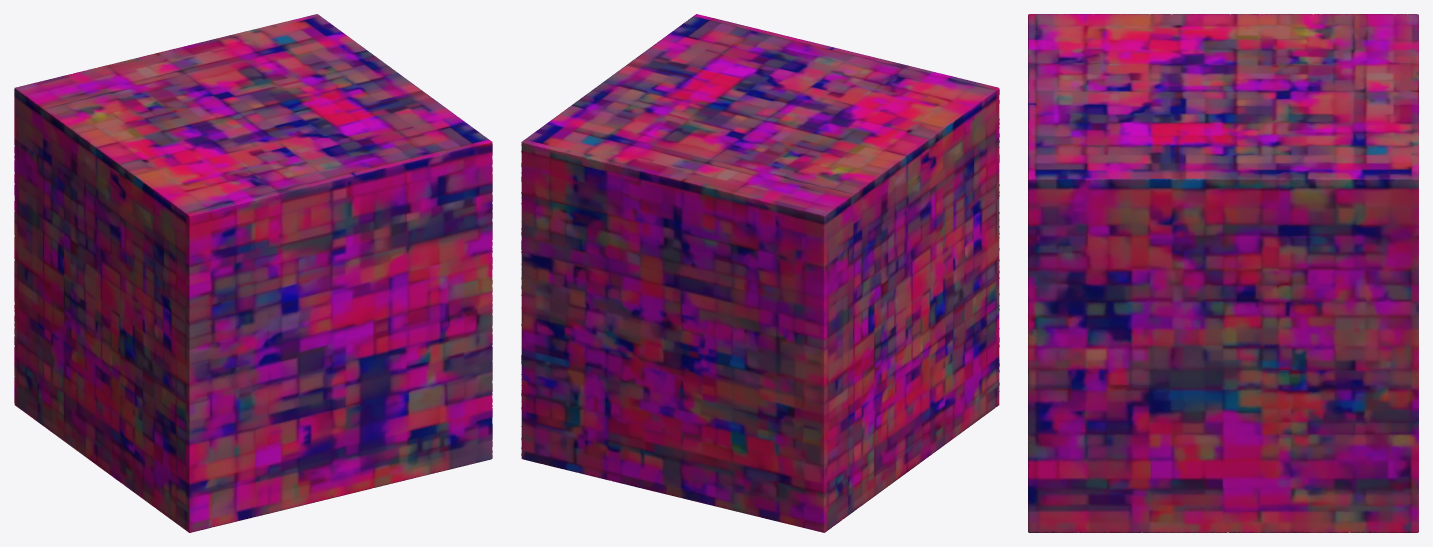
The model's file is fetch-image-sample-512-trellis.glb.
3 renders of one model, left to right at view 1: azimuth 30°, elevation 25°; view 2: azimuth 150°, elevation 25°; view 3: azimuth 270°, elevation 25°, orthographic. The views are drawn at different scales.
Parts seen in each view (by area): view 1: world; view 2: world; view 3: world.
Part boxes in pixels (left/top/right/bottom): world: left=14, top=14, right=492, bottom=532; world: left=521, top=14, right=999, bottom=532; world: left=1028, top=14, right=1418, bottom=532.
Bounding box in the file's own units: 1 × 1 × 1.
Materials: 1 (1 with a texture image).
